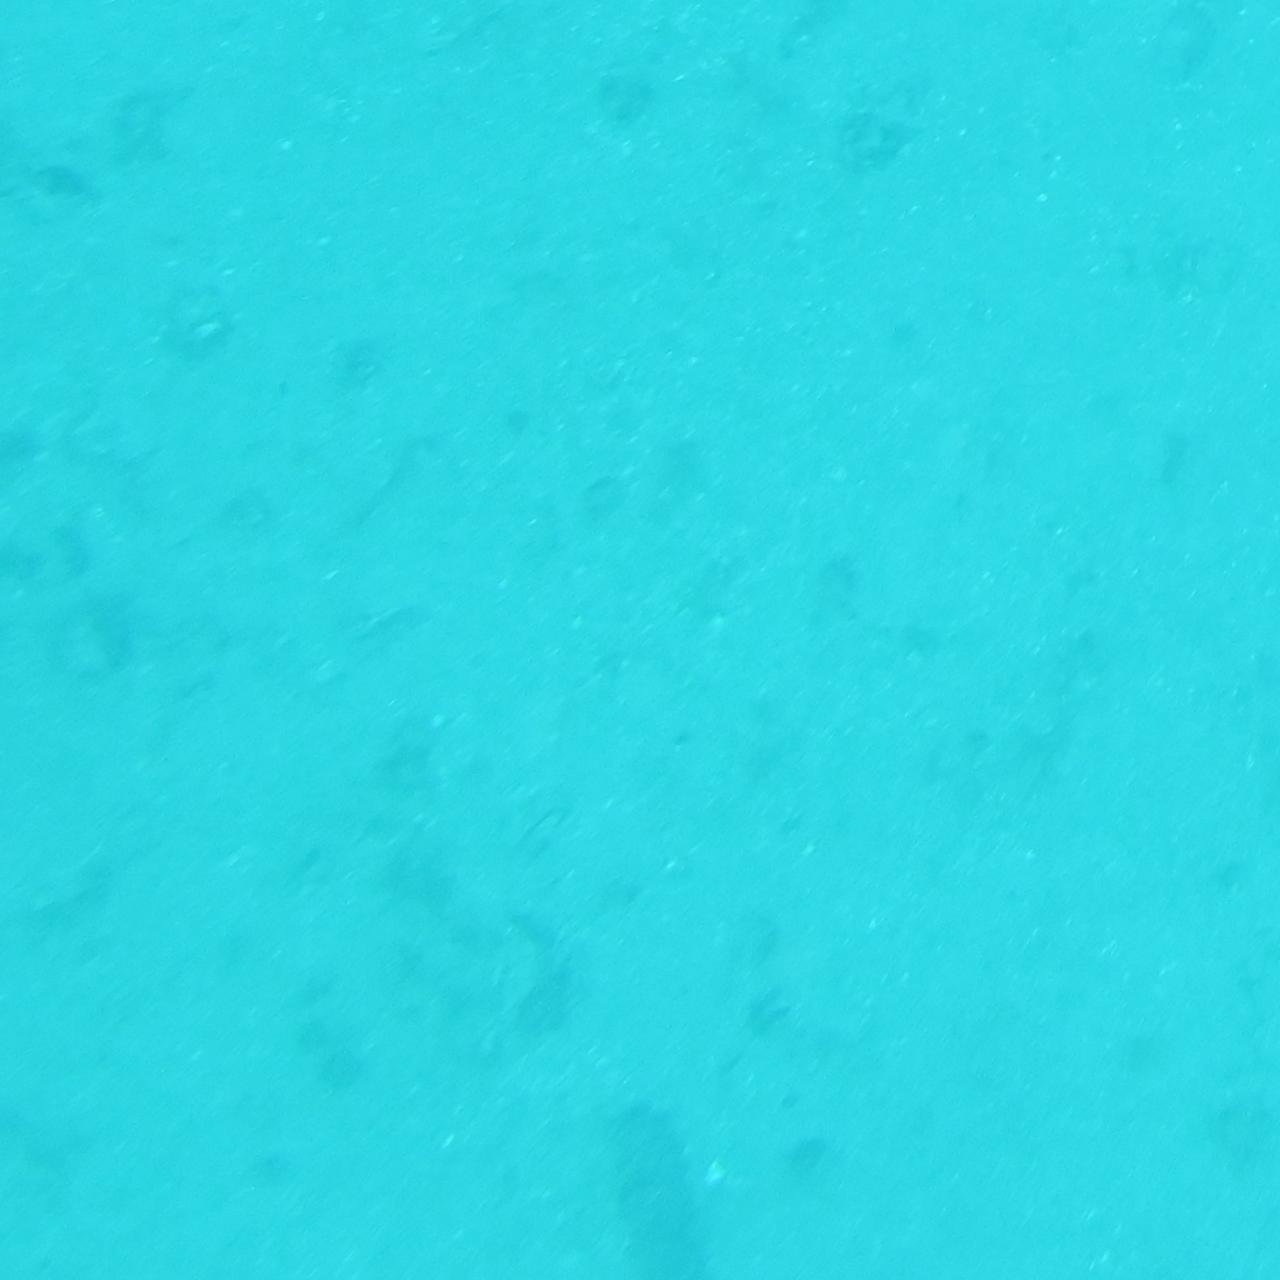Holothuria tubulosa: (574, 1097, 706, 1279)
